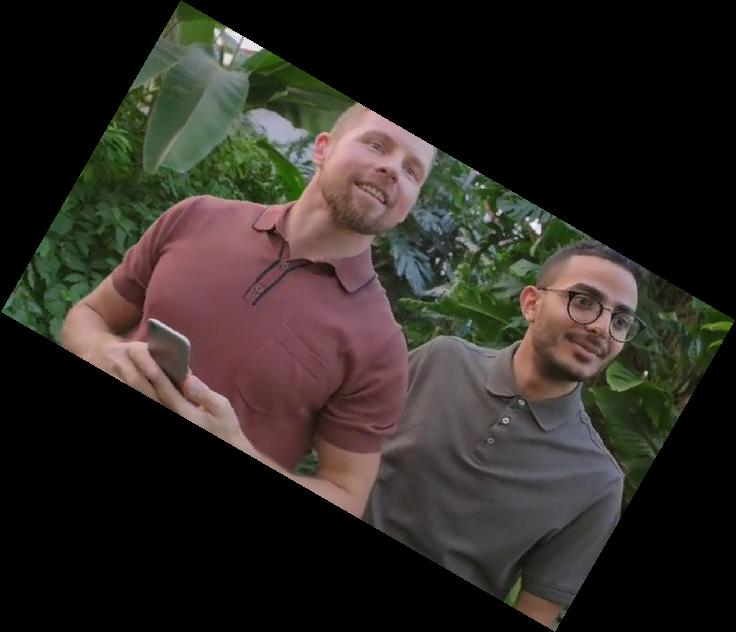phone: (142, 315, 193, 400)
